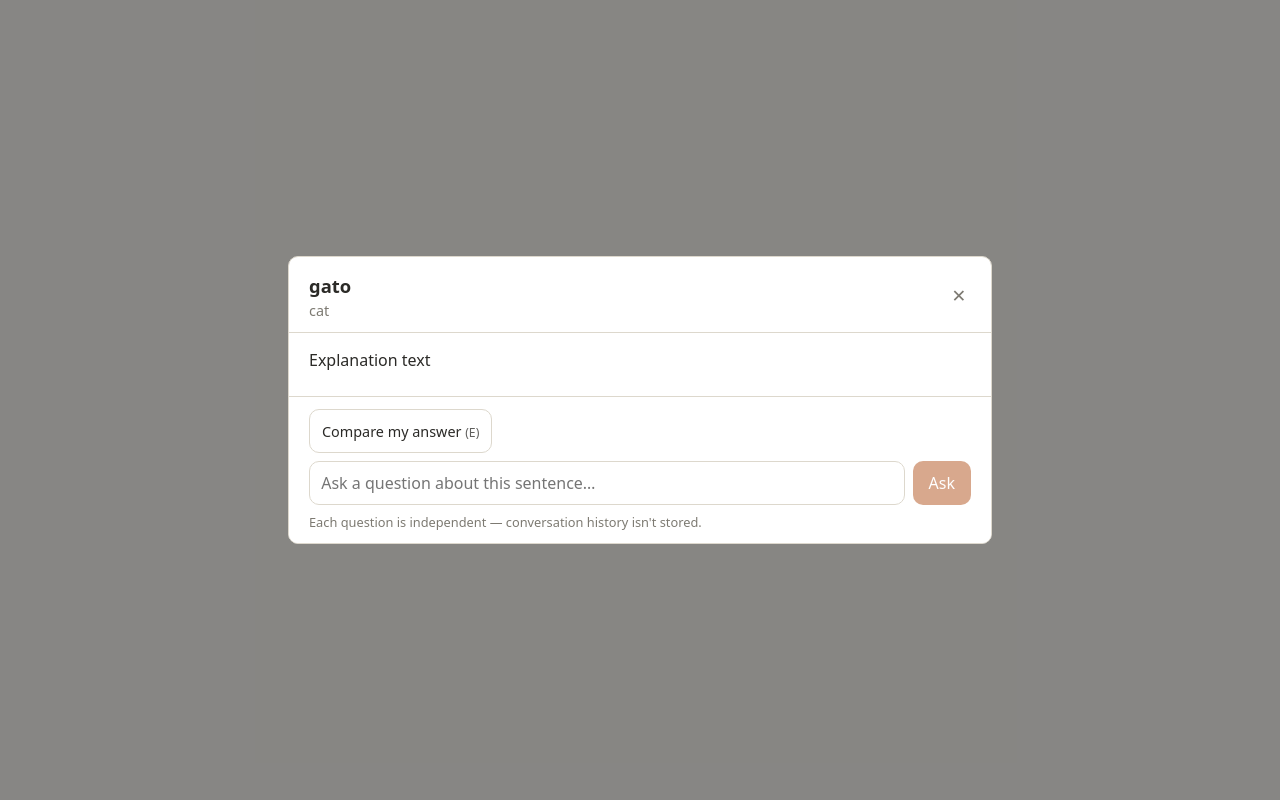
Scenario: ExplanationModal offline errors › shows the unavailable message when comparing the answer fails offline
expect the text "Explanation text" is shown: met, box [309,349,430,371]
Click the button "Compare my answer (E)". click: (401, 431)
box: [309,409,492,453]
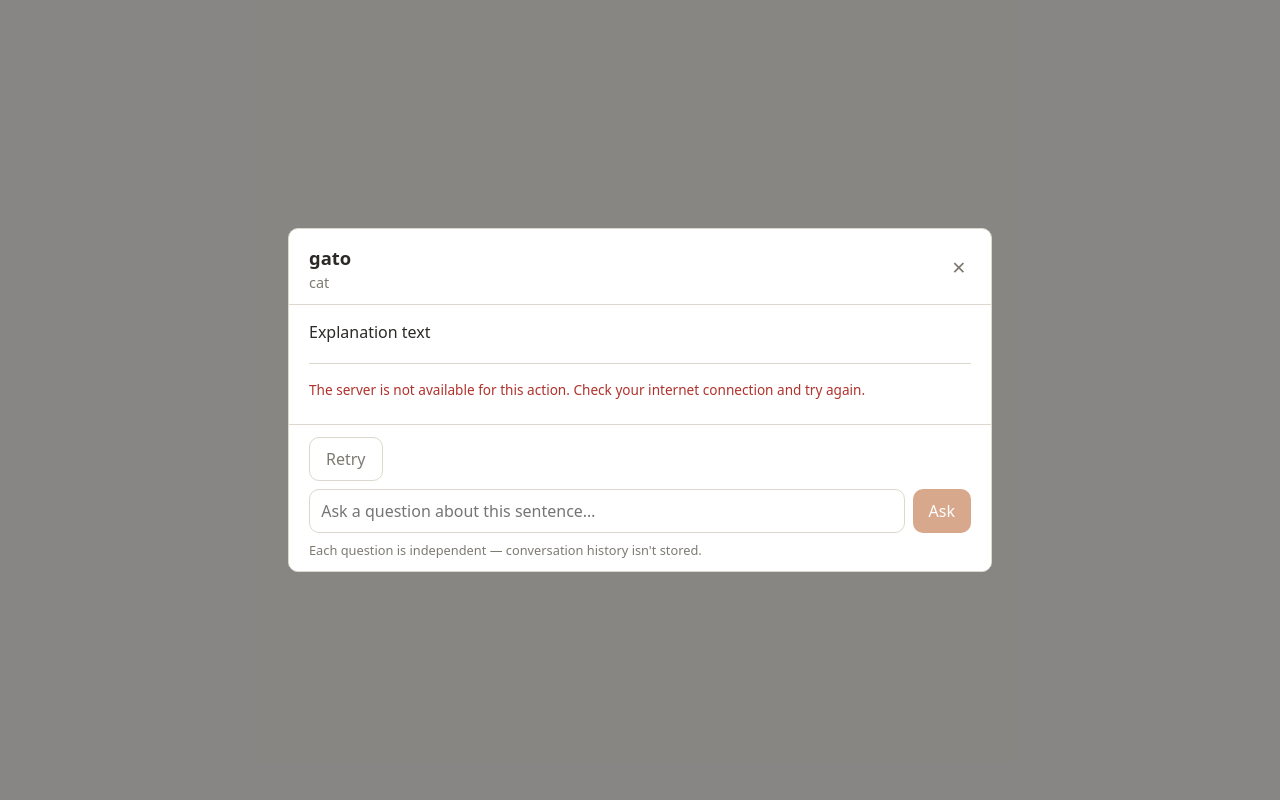
expect the text "The server is not available for this action. Check your internet connection and try again." is shown: met, box [309,380,865,399]
